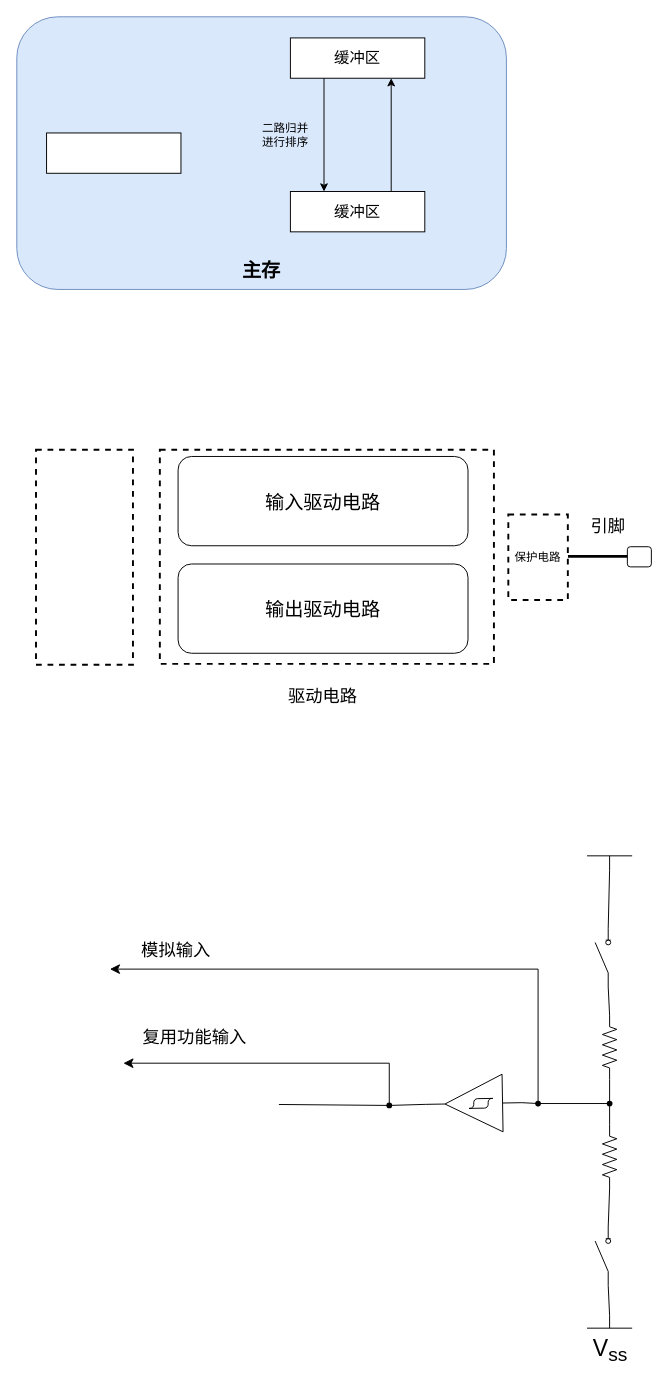
The diagram is 668 pixels wide and 1383 high, and some of its shapes have lost their labels. Here are the shapes that lost their labels. From the top down, the centre of each, then its label:
At (113,152): "输出缓冲区".
At (84,556): "寄存器".
At (609,862): "V dd".
